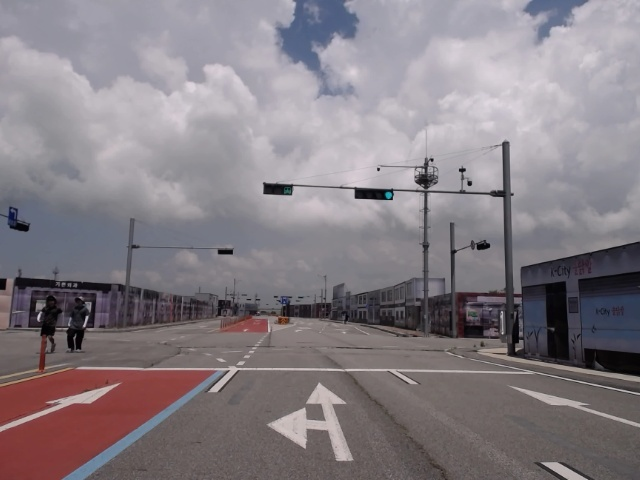straight_green_4: (355, 189, 394, 201)
